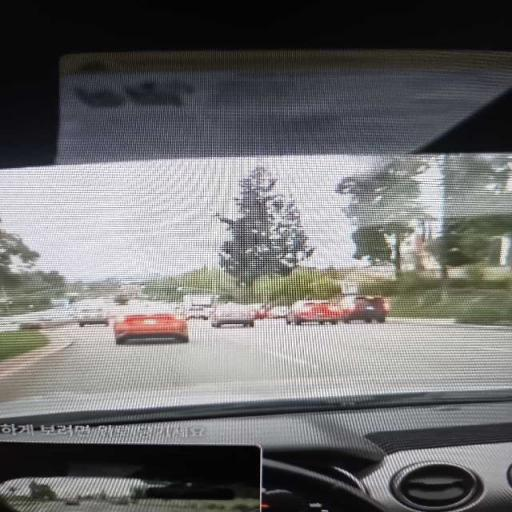car: (114, 313, 188, 344), (286, 301, 341, 325), (20, 308, 75, 330), (344, 297, 389, 322), (211, 304, 255, 327), (77, 308, 108, 327), (187, 305, 212, 319), (255, 305, 271, 319), (268, 307, 288, 318), (64, 499, 79, 505)
lane: (0, 320, 511, 402)
truck: (183, 295, 217, 319)
